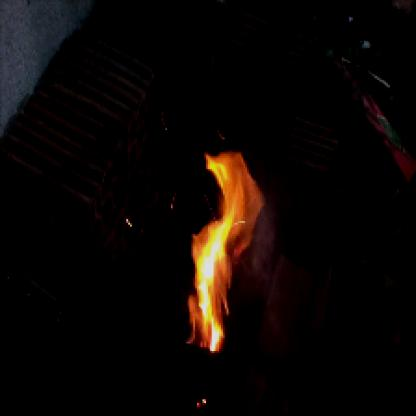Fire: (178, 141, 271, 357)
